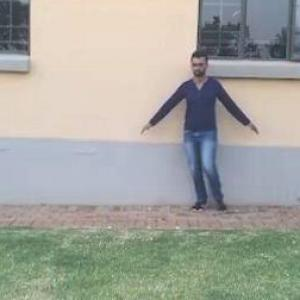land: (146, 51, 260, 224)
